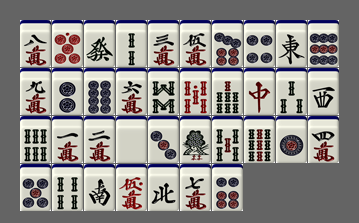0m: (116, 164, 147, 211)
0p: (52, 20, 83, 67)
0s: (180, 68, 211, 115)
1m: (52, 116, 83, 163)
1p: (276, 116, 307, 163)
1s: (180, 116, 211, 163)
1z: (276, 20, 307, 67)
2m: (84, 116, 115, 163)
2p: (52, 68, 83, 115)
2s: (116, 20, 147, 67)
2z: (84, 164, 115, 211)
3m: (148, 20, 179, 67)
3p: (148, 116, 179, 163)
3s: (276, 68, 307, 115)
3z: (308, 68, 339, 115)
4m: (308, 116, 339, 163)
4p: (244, 20, 275, 67)
4s: (52, 164, 83, 211)
4z: (148, 164, 179, 211)
5m: (180, 20, 211, 67)
5p: (20, 164, 51, 211)
5s: (212, 116, 243, 163)
5z: (116, 116, 147, 163)
6m: (116, 68, 147, 115)
6p: (212, 164, 243, 211)
6s: (20, 116, 51, 163)
6z: (84, 20, 115, 67)
7m: (180, 164, 211, 211)
7p: (212, 20, 243, 67)
7s: (212, 68, 243, 115)
7z: (244, 68, 275, 115)
8m: (20, 20, 51, 67)
8p: (84, 68, 115, 115)
8s: (148, 68, 179, 115)
9m: (20, 68, 51, 115)
9p: (308, 20, 339, 67)
9s: (244, 116, 275, 163)
